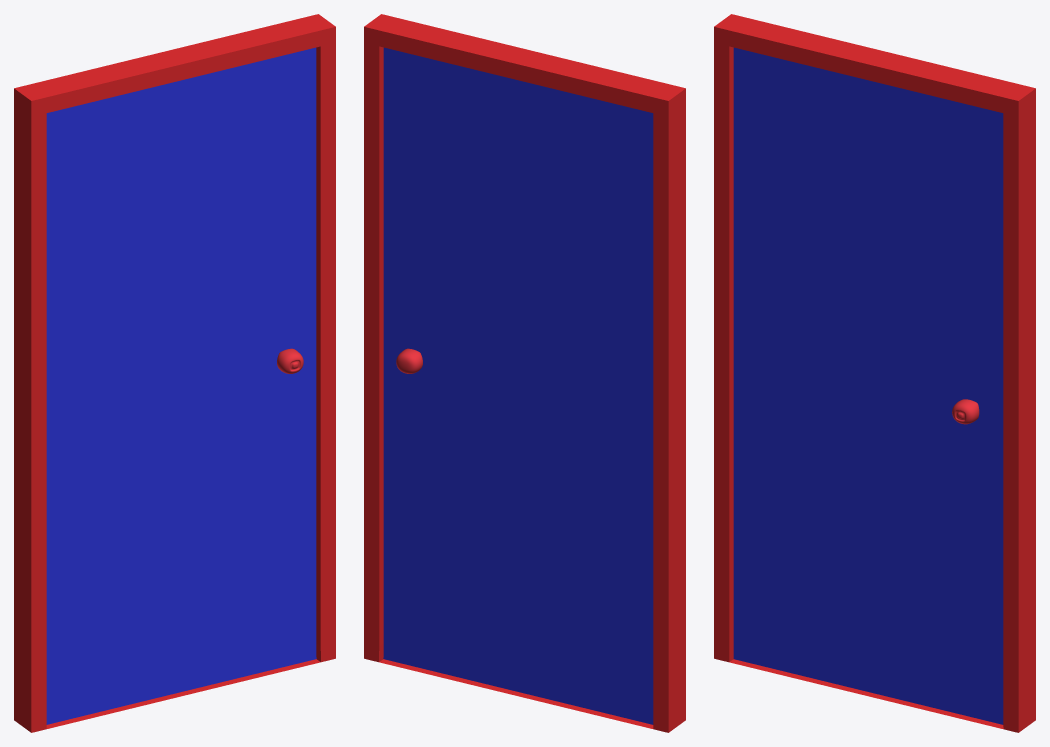
File: Door.fbx
3 views of the same model, side by side, from view 1: azimuth 30°, elevation 25°; view 2: azimuth 150°, elevation 25°; view 3: azimuth 330°, elevation 25° (orthographic).
Visible parts, largest first — view 1: Puerta, Manija; view 2: Puerta, Manija; view 3: Puerta, Manija.
Boxes of the visible parts, left/top/right/bottom form: Puerta: left=14, top=14, right=335, bottom=732; Manija: left=277, top=348, right=303, bottom=373; Puerta: left=364, top=14, right=685, bottom=732; Manija: left=396, top=348, right=422, bottom=373; Puerta: left=714, top=14, right=1035, bottom=732; Manija: left=952, top=399, right=979, bottom=424.
Size of the model in its own units: 2017 by 4000 by 414.
